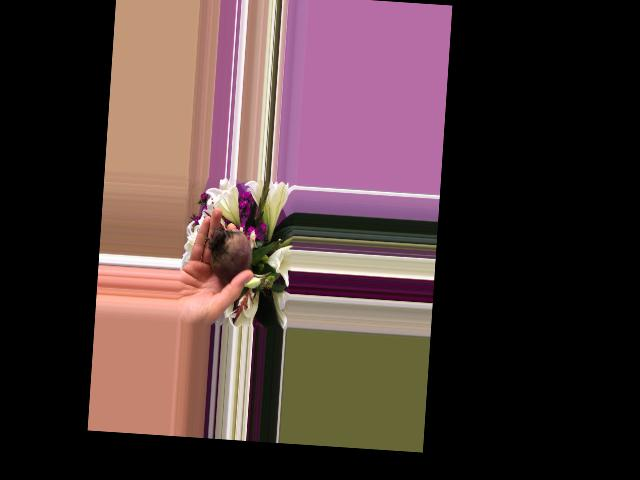beet: (207, 226, 274, 285)
